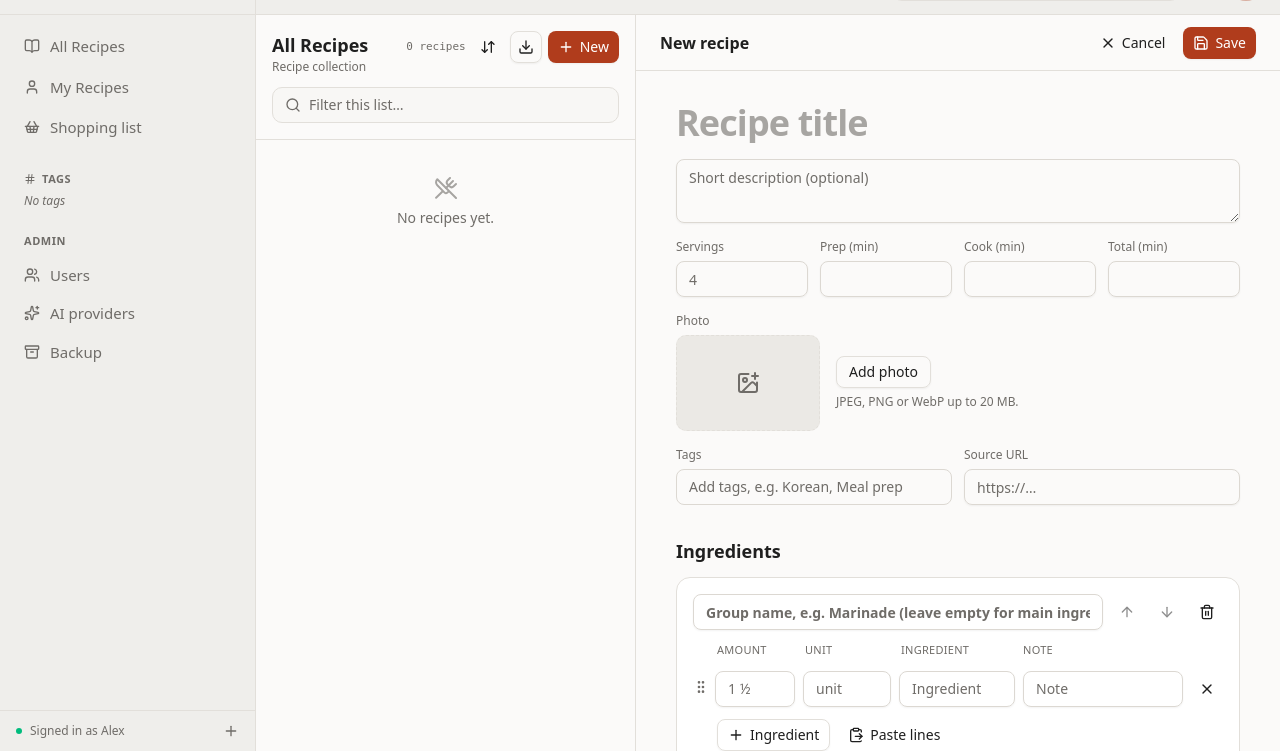
Test: recipe editor › explains what to fix before saving
The image size is (1280, 751).
In the field labelled "title": {"x": 958, "y": 123} [676, 103, 1240, 143], type "Bread"
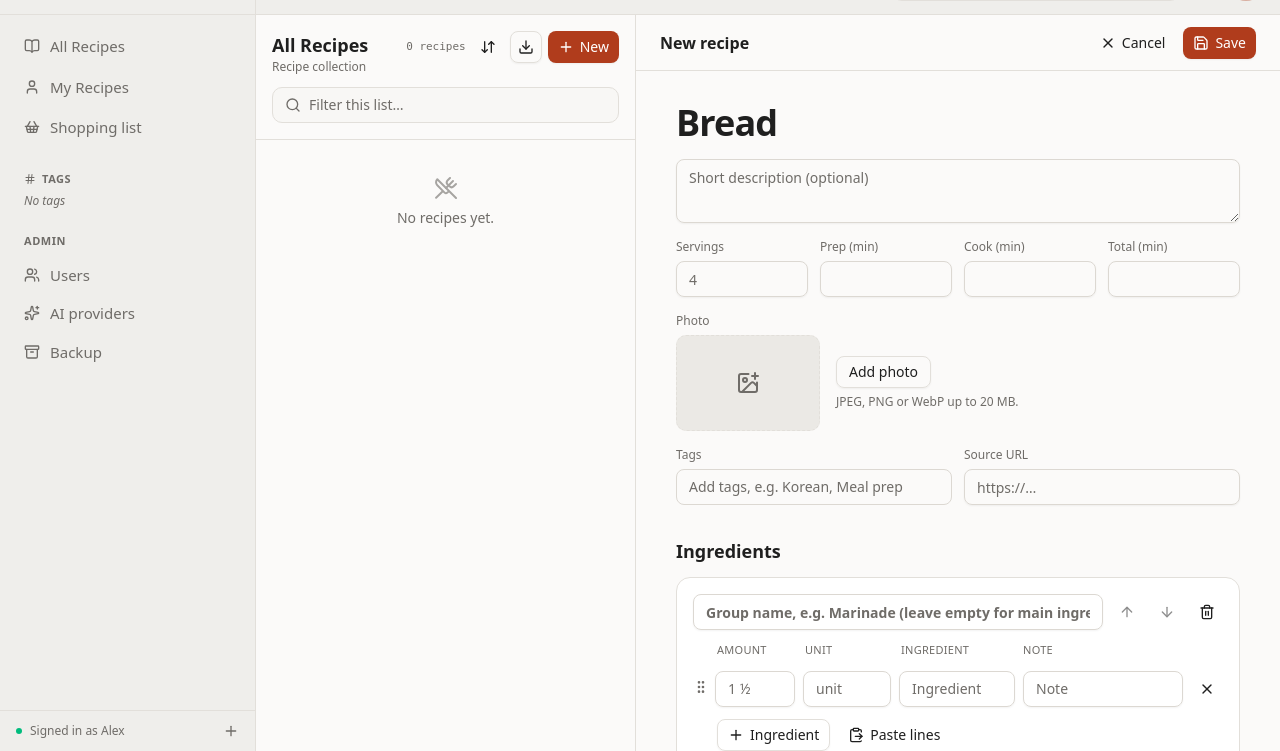
In the field labelled "Servings": {"x": 742, "y": 279} [676, 261, 808, 297], type "0"
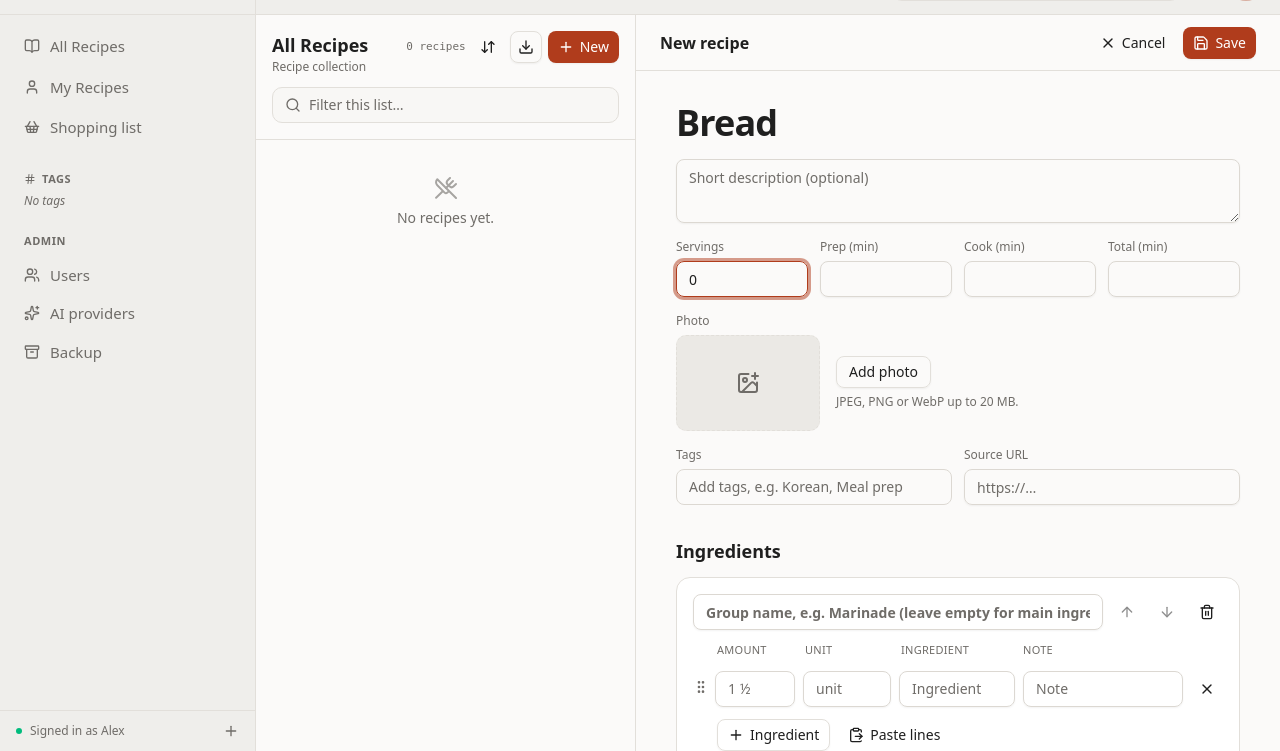
In the field labelled "Prep (min)": {"x": 886, "y": 279} [820, 261, 952, 297], type "1.5"
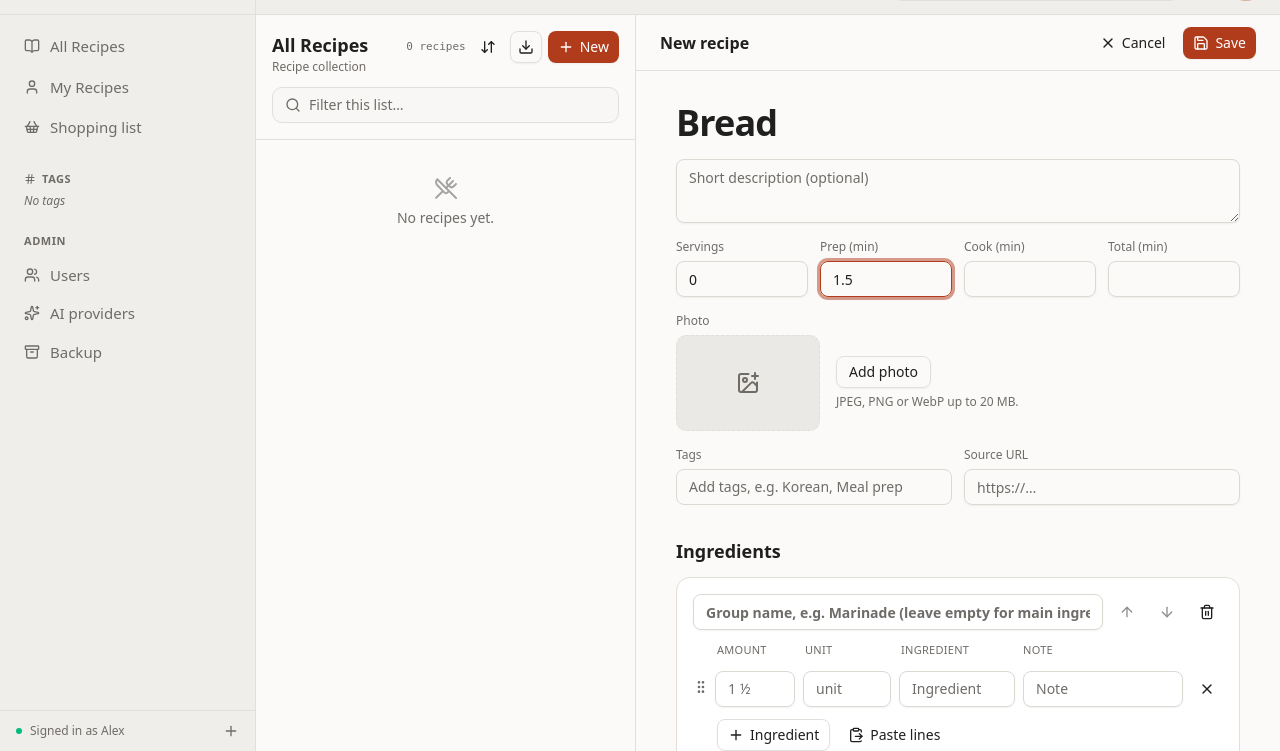
Click the button "Save": {"x": 1220, "y": 42} [1183, 26, 1256, 58]
(page scrolled)
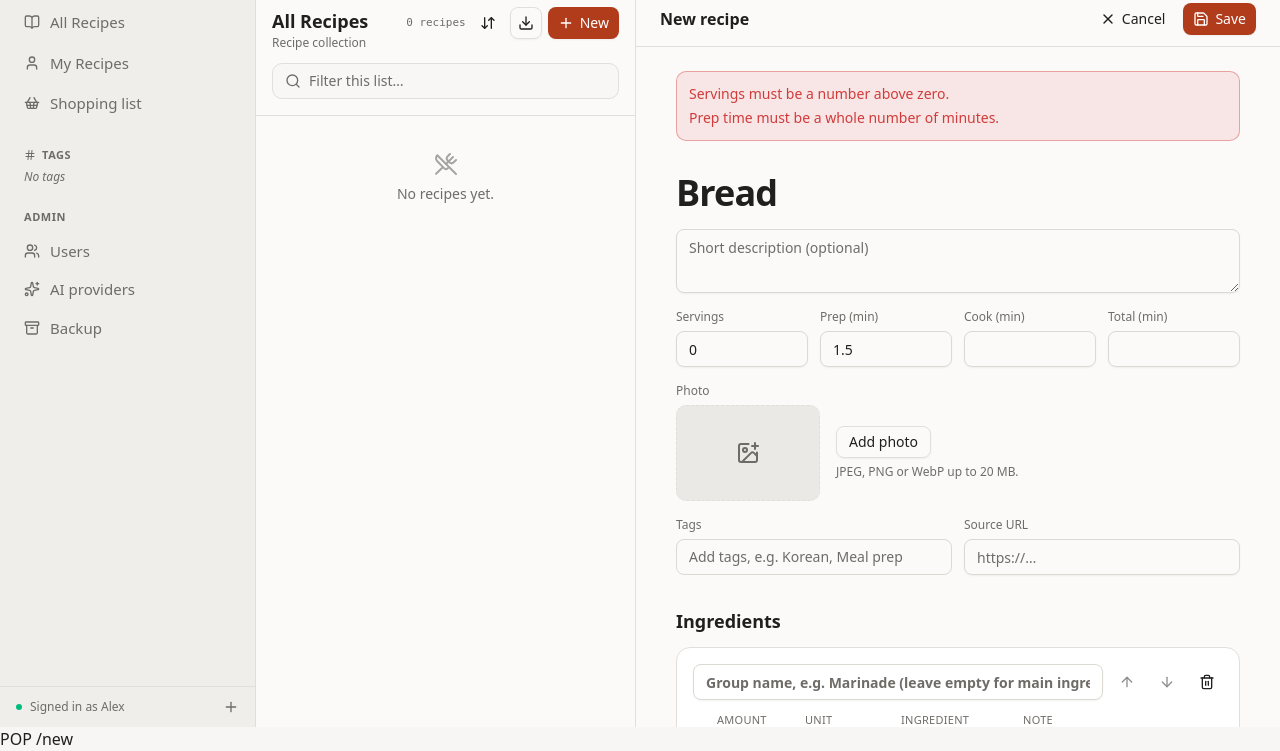
Expected: the list items read "Servings must be a number above zero.", "Prep time must be a whole number of minutes.", in this order, [689, 84, 949, 103]; [689, 108, 999, 127]
